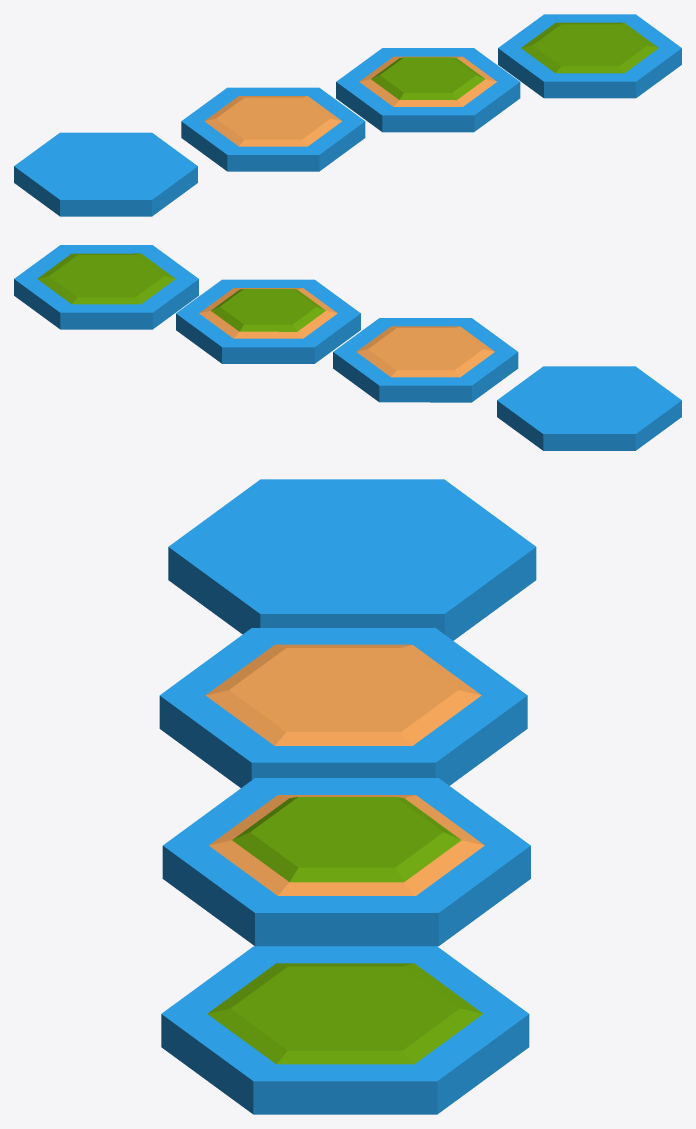
File: negative.glb
The picture shows the model from 3 angles, top to bottom: view 1: azimuth 30°, elevation 25°; view 2: azimuth 150°, elevation 25°; view 3: azimuth 270°, elevation 25°; orthographic projection. The views are drawn at different scales.
Visible parts, largest first — view 1: ziran.823, ziran.822, ziran.821, ziran.824; view 2: ziran.822, ziran.821, ziran.823, ziran.824; view 3: ziran.824, ziran.823, ziran.822, ziran.821.
Boxes of the visible parts, x1,y1,x2,y2 form: ziran.823: [336, 48, 520, 132]; ziran.822: [181, 87, 365, 171]; ziran.821: [14, 132, 197, 216]; ziran.824: [498, 14, 681, 98]; ziran.822: [333, 318, 518, 402]; ziran.821: [497, 366, 681, 450]; ziran.823: [176, 279, 360, 363]; ziran.824: [14, 245, 198, 329]; ziran.824: [161, 946, 529, 1114]; ziran.823: [162, 778, 530, 946]; ziran.822: [159, 628, 527, 787]; ziran.821: [168, 479, 536, 640].
Size of the model in its own units: 19.46 by 0.9143 by 5.12.
1 material, 1 textured.
